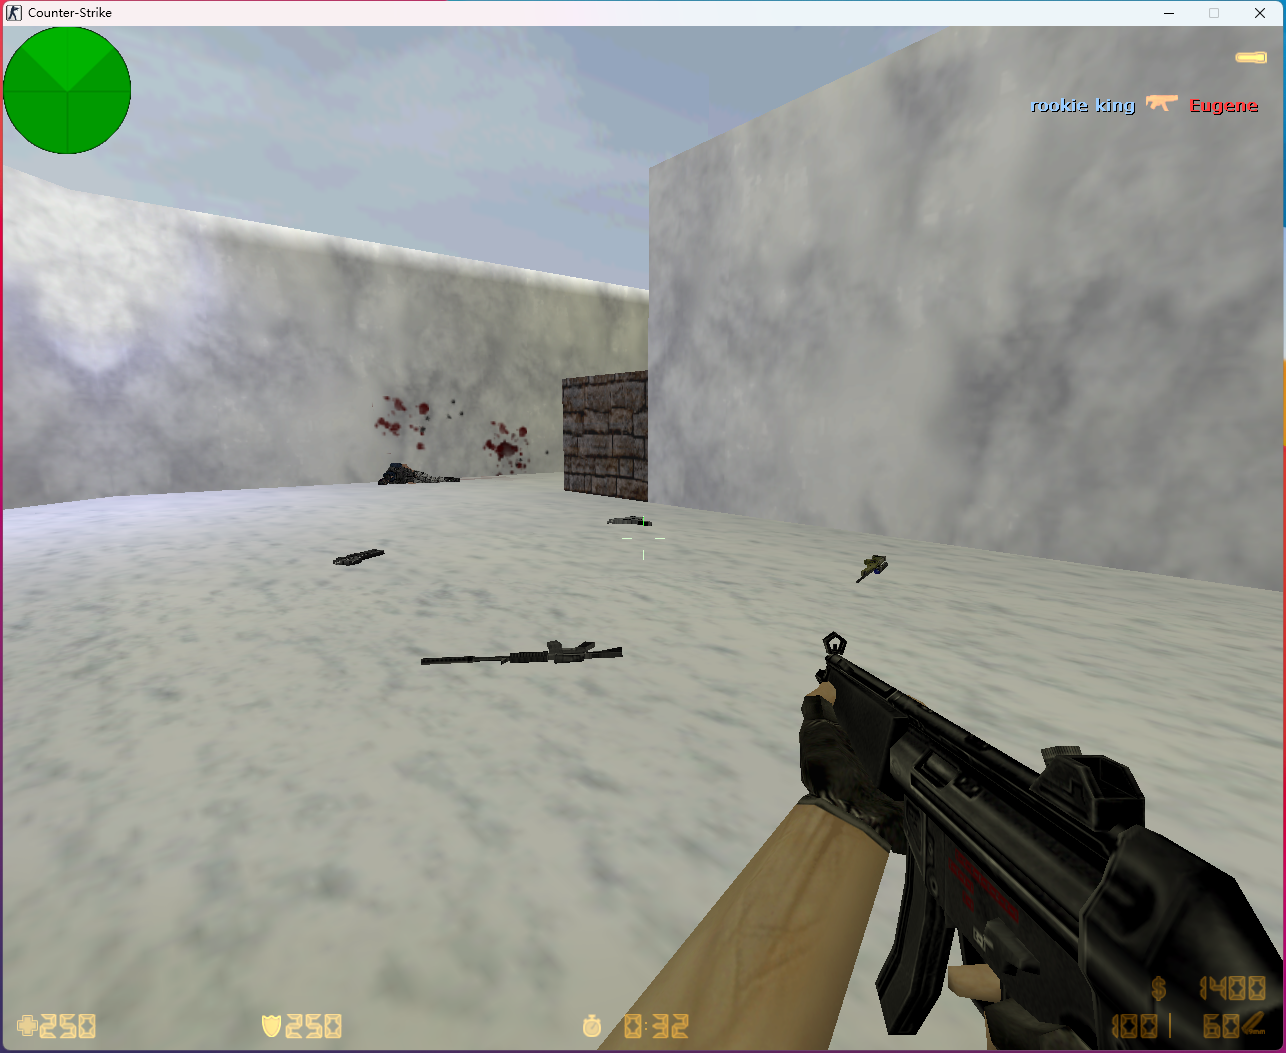dead: (377, 461, 461, 486)
weapon: (422, 640, 623, 669), (854, 551, 889, 586), (332, 546, 385, 567), (608, 515, 649, 526)
